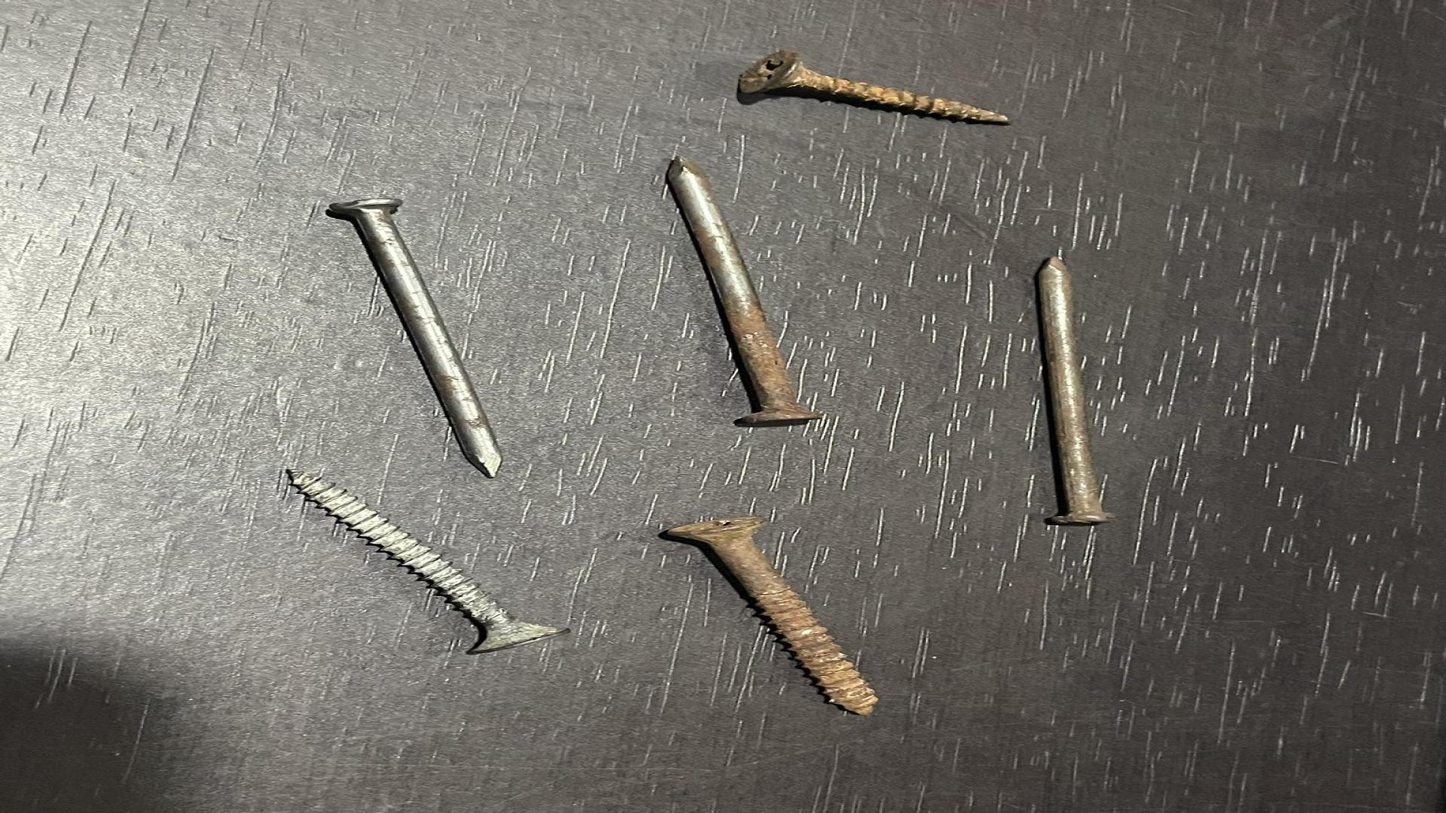nail: (292, 196, 593, 486), (612, 149, 907, 439), (1004, 246, 1152, 540)
screw: (245, 443, 574, 684), (640, 483, 935, 740), (662, 30, 1061, 132)
